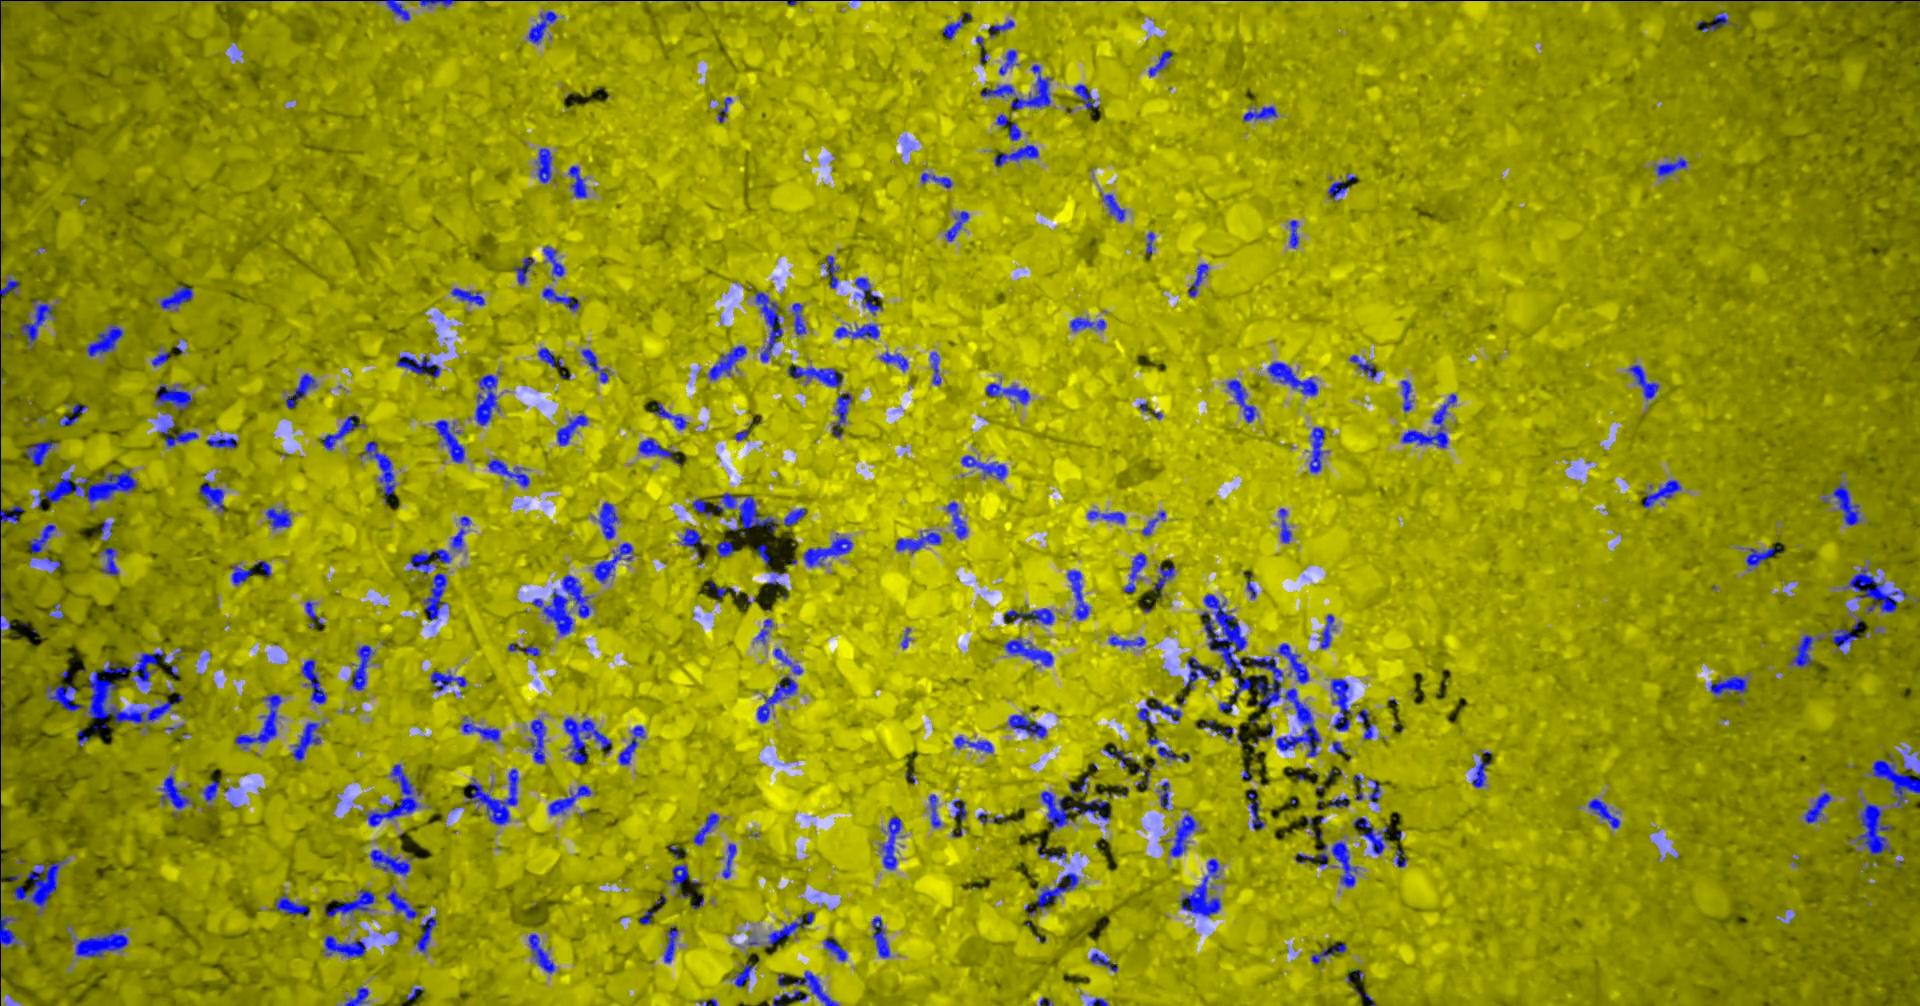ant: (364, 763, 422, 826), (1401, 392, 1457, 447), (463, 768, 518, 824), (1844, 568, 1907, 614), (13, 860, 65, 912), (1040, 790, 1109, 829), (234, 694, 281, 748), (1870, 753, 1919, 805), (716, 493, 776, 535), (1180, 857, 1220, 916), (102, 652, 166, 687), (1023, 873, 1078, 915), (563, 716, 611, 763), (754, 291, 782, 361), (531, 589, 573, 635), (1010, 64, 1050, 111), (364, 441, 395, 503), (756, 676, 796, 721), (1857, 803, 1891, 855), (764, 911, 813, 948), (1267, 361, 1317, 395), (803, 533, 852, 567), (791, 970, 838, 1005), (592, 542, 632, 582), (20, 298, 53, 344), (321, 415, 364, 448), (323, 889, 375, 916), (74, 931, 128, 956), (1004, 636, 1051, 666), (474, 373, 499, 426), (433, 419, 463, 462), (561, 574, 592, 617), (709, 345, 745, 380), (1352, 817, 1387, 854), (1225, 379, 1255, 422), (787, 365, 842, 387), (1277, 643, 1308, 683), (549, 785, 590, 814), (1331, 840, 1356, 887), (1137, 699, 1181, 725), (1185, 655, 1220, 688), (637, 437, 679, 465), (488, 459, 530, 486), (1832, 483, 1860, 525), (1168, 814, 1196, 856), (1065, 570, 1090, 619), (422, 572, 446, 620), (291, 721, 320, 761), (301, 659, 326, 704), (86, 325, 123, 356), (44, 681, 83, 710), (960, 455, 1006, 479), (284, 373, 316, 408), (881, 815, 902, 869), (370, 848, 410, 875), (1642, 479, 1680, 507), (1330, 678, 1350, 730), (159, 775, 190, 808), (1628, 365, 1658, 399), (350, 644, 373, 690), (993, 144, 1037, 166), (154, 384, 192, 410), (409, 549, 451, 573), (528, 934, 554, 973), (396, 354, 439, 377), (855, 277, 881, 314), (159, 420, 197, 446), (618, 725, 644, 763), (385, 888, 417, 918), (527, 10, 556, 43), (556, 414, 587, 445), (1589, 798, 1619, 828), (653, 401, 686, 429), (1008, 714, 1046, 738), (461, 716, 499, 741), (830, 392, 851, 437), (895, 532, 940, 553), (1123, 553, 1145, 592), (324, 935, 364, 956), (582, 348, 607, 382), (945, 500, 968, 539), (542, 287, 578, 311), (941, 11, 971, 39), (639, 892, 665, 923), (1745, 546, 1782, 569), (159, 285, 192, 310), (985, 384, 1029, 403), (773, 647, 803, 674), (1804, 793, 1831, 823), (943, 210, 969, 241), (692, 813, 717, 845), (1789, 634, 1813, 667), (1152, 565, 1175, 600), (1294, 843, 1328, 866), (198, 480, 223, 511), (430, 669, 466, 691), (1310, 942, 1346, 964), (1003, 608, 1053, 624), (276, 893, 309, 916), (598, 502, 618, 539), (871, 916, 889, 958), (25, 441, 55, 466), (1709, 676, 1747, 695), (450, 516, 470, 551), (415, 916, 436, 951), (29, 525, 55, 553), (1695, 11, 1730, 32), (1309, 427, 1324, 473), (530, 718, 545, 763), (1247, 788, 1263, 829), (834, 323, 879, 338), (1349, 354, 1377, 379), (1187, 263, 1208, 296), (58, 403, 88, 426), (542, 245, 564, 276), (952, 735, 992, 752), (1073, 84, 1098, 109), (1200, 719, 1232, 739), (1102, 193, 1125, 221), (1103, 746, 1133, 767), (1148, 50, 1172, 75), (996, 114, 1020, 140), (1655, 158, 1686, 177), (535, 147, 551, 183), (513, 257, 533, 285), (681, 528, 709, 549), (450, 288, 484, 305), (0, 911, 17, 945), (568, 165, 585, 197), (1142, 511, 1164, 535), (919, 171, 952, 188), (1830, 627, 1857, 648), (879, 351, 907, 370), (303, 600, 323, 627), (1470, 760, 1490, 788), (1090, 951, 1117, 970), (823, 937, 846, 960), (265, 507, 290, 528), (734, 963, 756, 987), (100, 546, 118, 575), (383, 0, 409, 20), (537, 347, 563, 367), (663, 925, 677, 962), (1069, 318, 1105, 332), (998, 50, 1018, 74), (1087, 511, 1125, 523), (1157, 746, 1189, 761), (1242, 105, 1276, 119), (1277, 508, 1291, 542), (1321, 614, 1335, 648), (721, 843, 735, 878), (0, 277, 18, 304), (668, 864, 688, 887), (987, 19, 1015, 36), (825, 255, 839, 288), (791, 302, 805, 335), (344, 986, 368, 1005), (204, 434, 236, 448), (507, 641, 538, 655), (980, 84, 1015, 97), (1357, 709, 1371, 739), (1037, 843, 1065, 859), (1109, 636, 1145, 648), (756, 619, 772, 644), (231, 565, 251, 586), (0, 504, 22, 523), (1233, 676, 1251, 699), (1399, 380, 1412, 412), (928, 794, 940, 827), (1327, 180, 1347, 198), (691, 498, 712, 514), (783, 508, 805, 525), (202, 780, 218, 801), (717, 97, 731, 122), (1157, 781, 1170, 809), (930, 351, 940, 385), (716, 539, 734, 558), (151, 351, 173, 366), (756, 542, 770, 565), (952, 799, 966, 821), (709, 580, 726, 597), (251, 560, 270, 575), (1288, 220, 1298, 246), (1352, 774, 1363, 800), (1246, 573, 1256, 598), (1369, 779, 1379, 801), (419, 0, 455, 6), (1145, 231, 1154, 257), (405, 986, 423, 998), (1327, 796, 1349, 807), (1396, 848, 1407, 868), (734, 428, 750, 439), (76, 729, 88, 746), (1087, 997, 1107, 1005)
